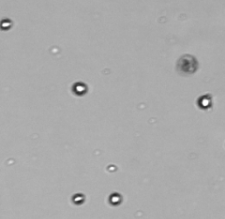Dead Cell: (179, 55, 199, 72)
Living Cell: (197, 94, 213, 109), (73, 81, 88, 94), (109, 192, 123, 204), (1, 18, 12, 30), (72, 192, 84, 203)
